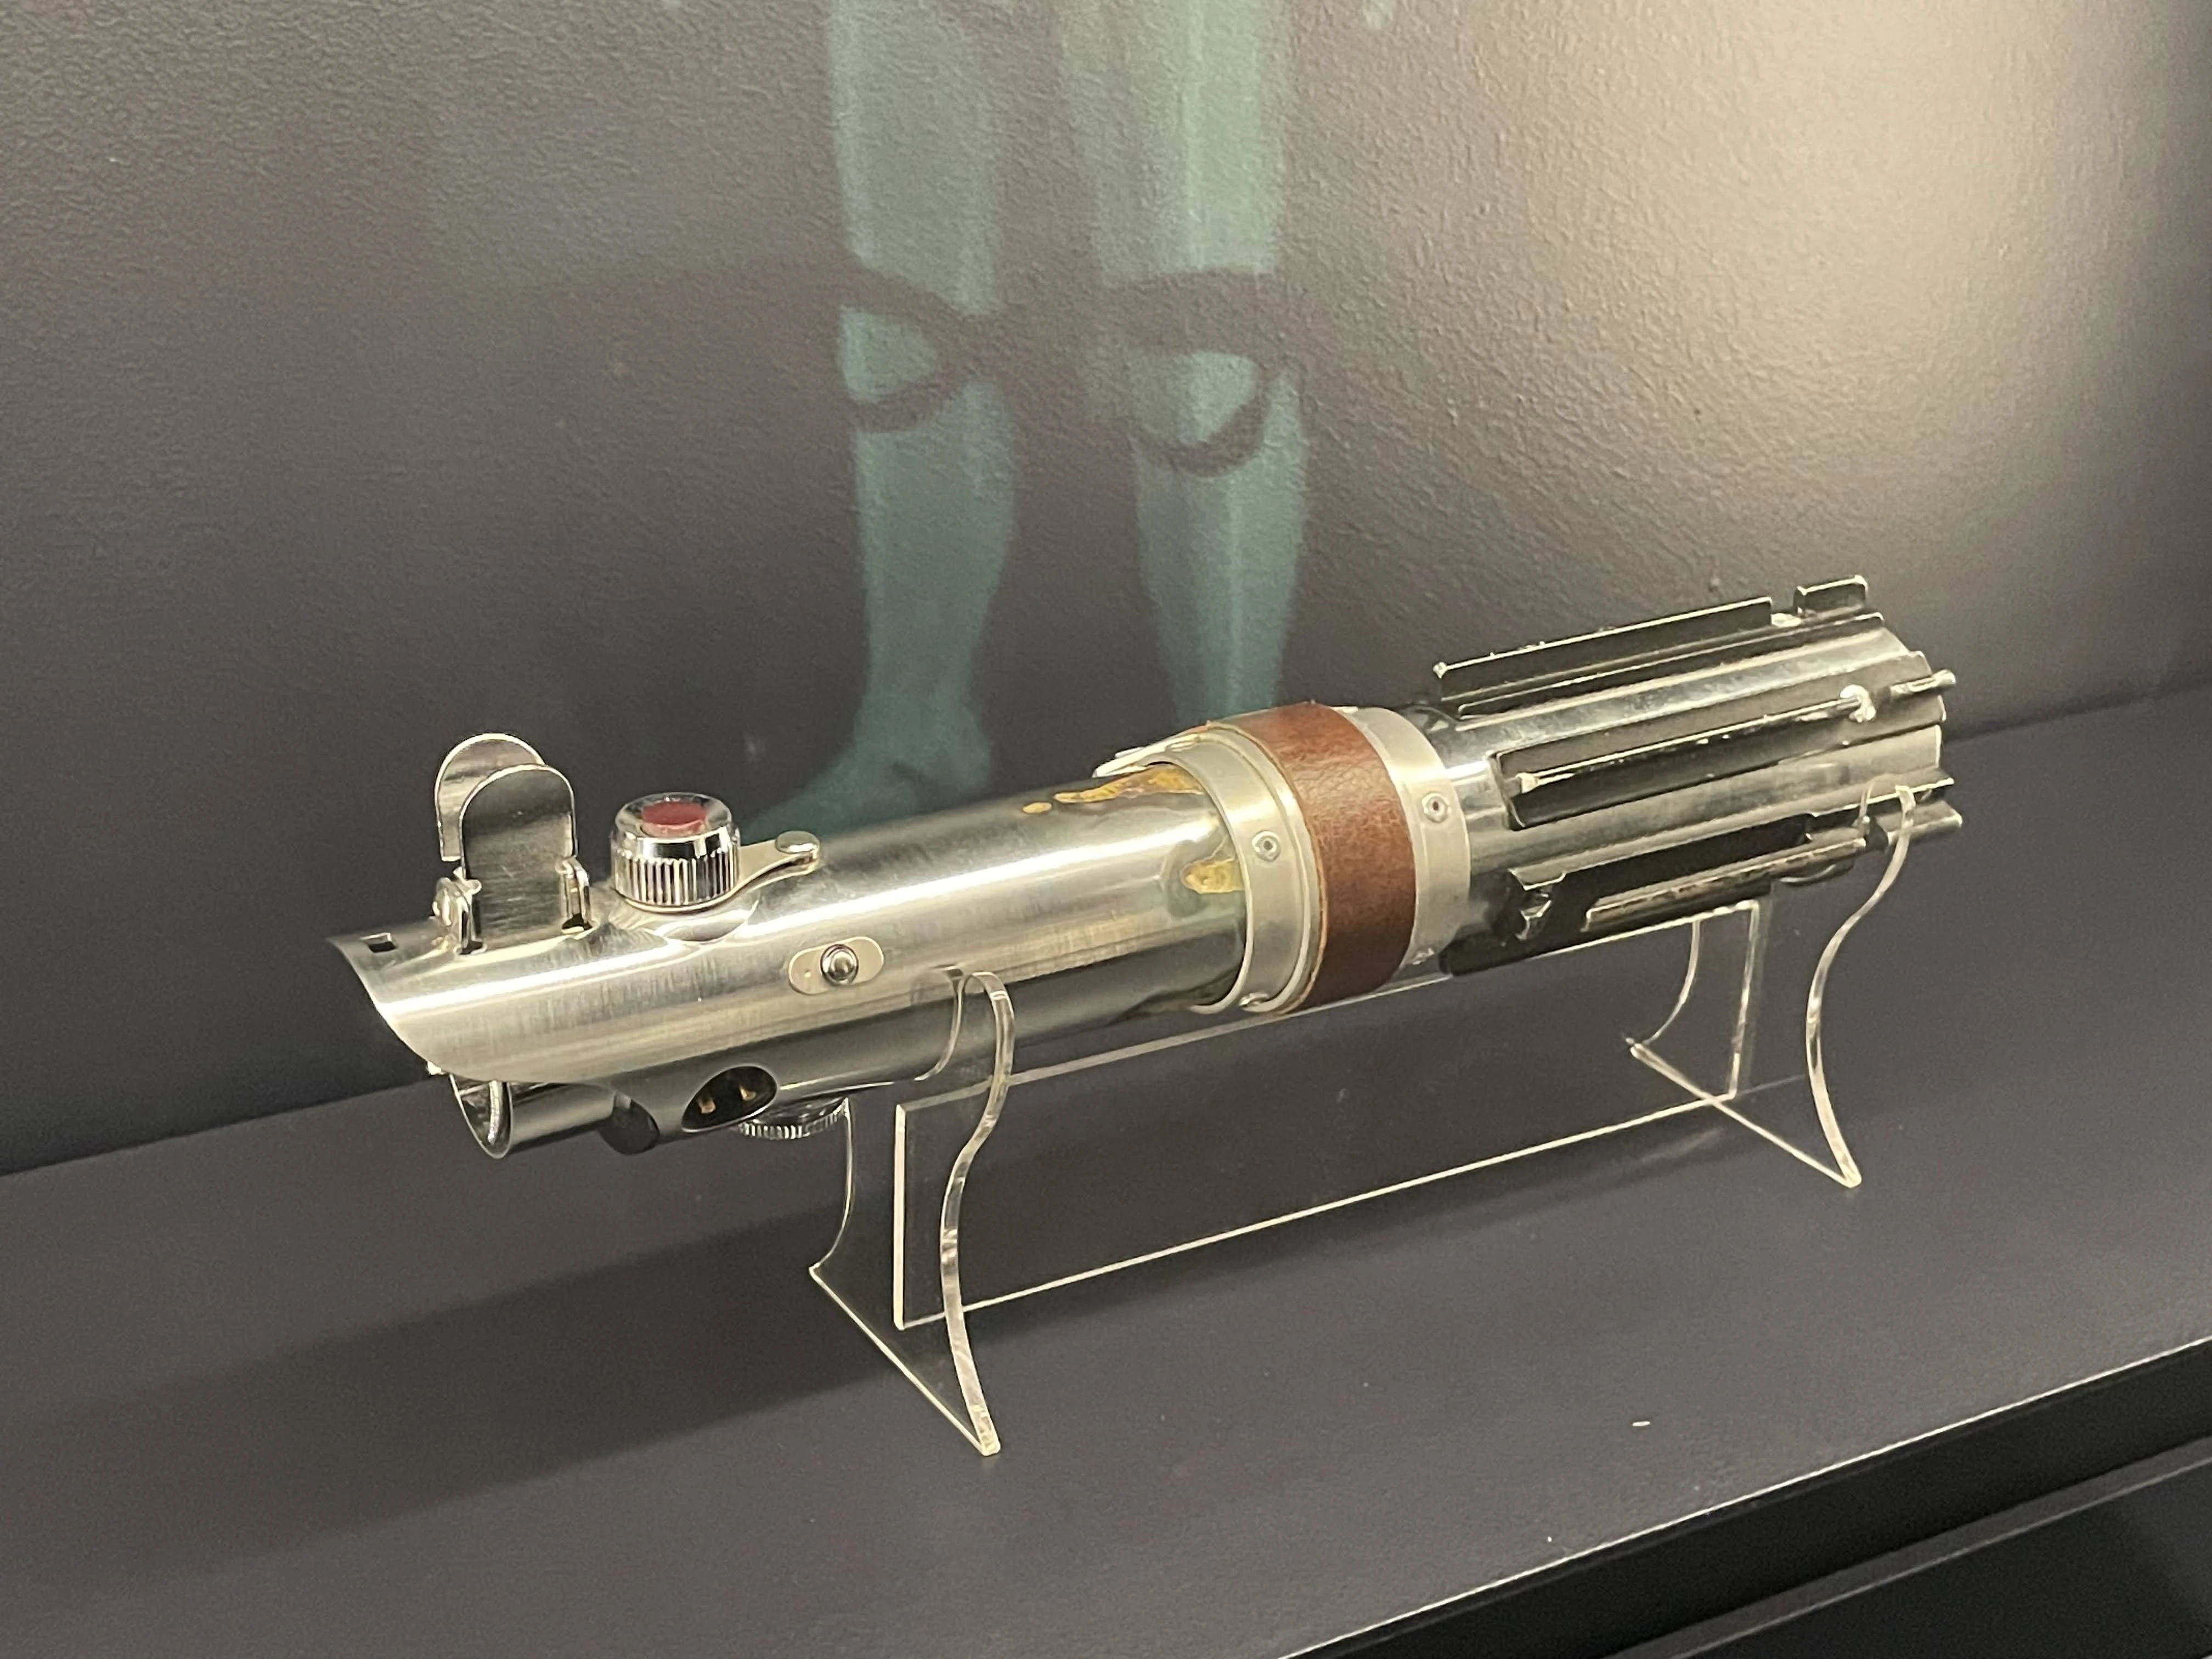Dalek: (308, 554, 2008, 1166)
